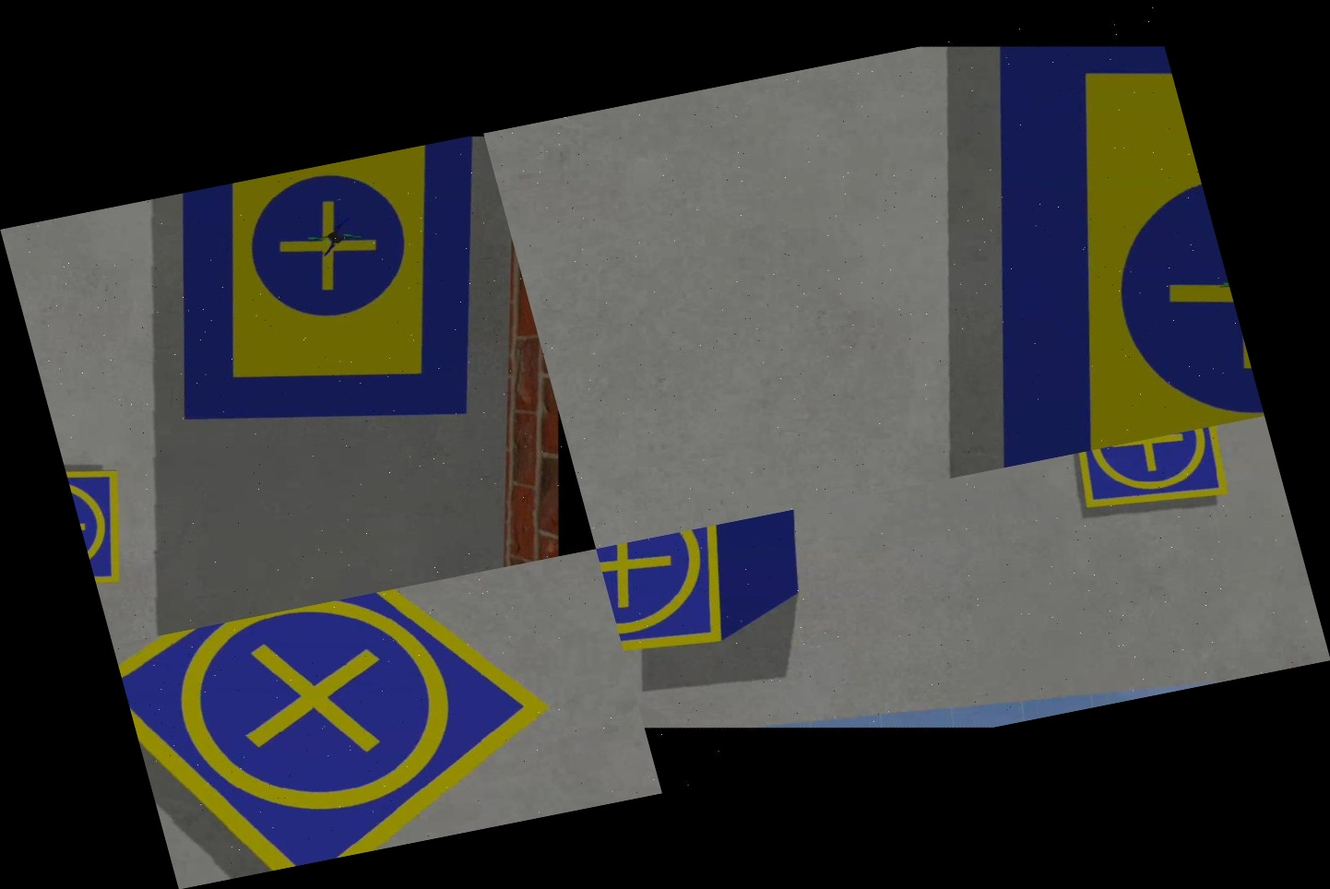large_base: (857, 14, 1264, 475), (125, 135, 546, 474)
small_base: (113, 555, 628, 888), (596, 521, 771, 680), (1058, 421, 1264, 541), (61, 443, 152, 590)
